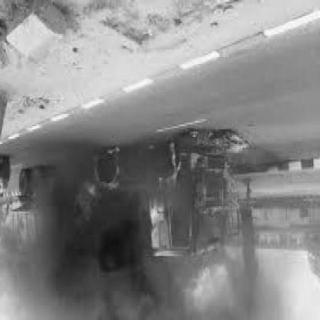Fire: (149, 138, 185, 200)
Smoke: (12, 232, 286, 316)
